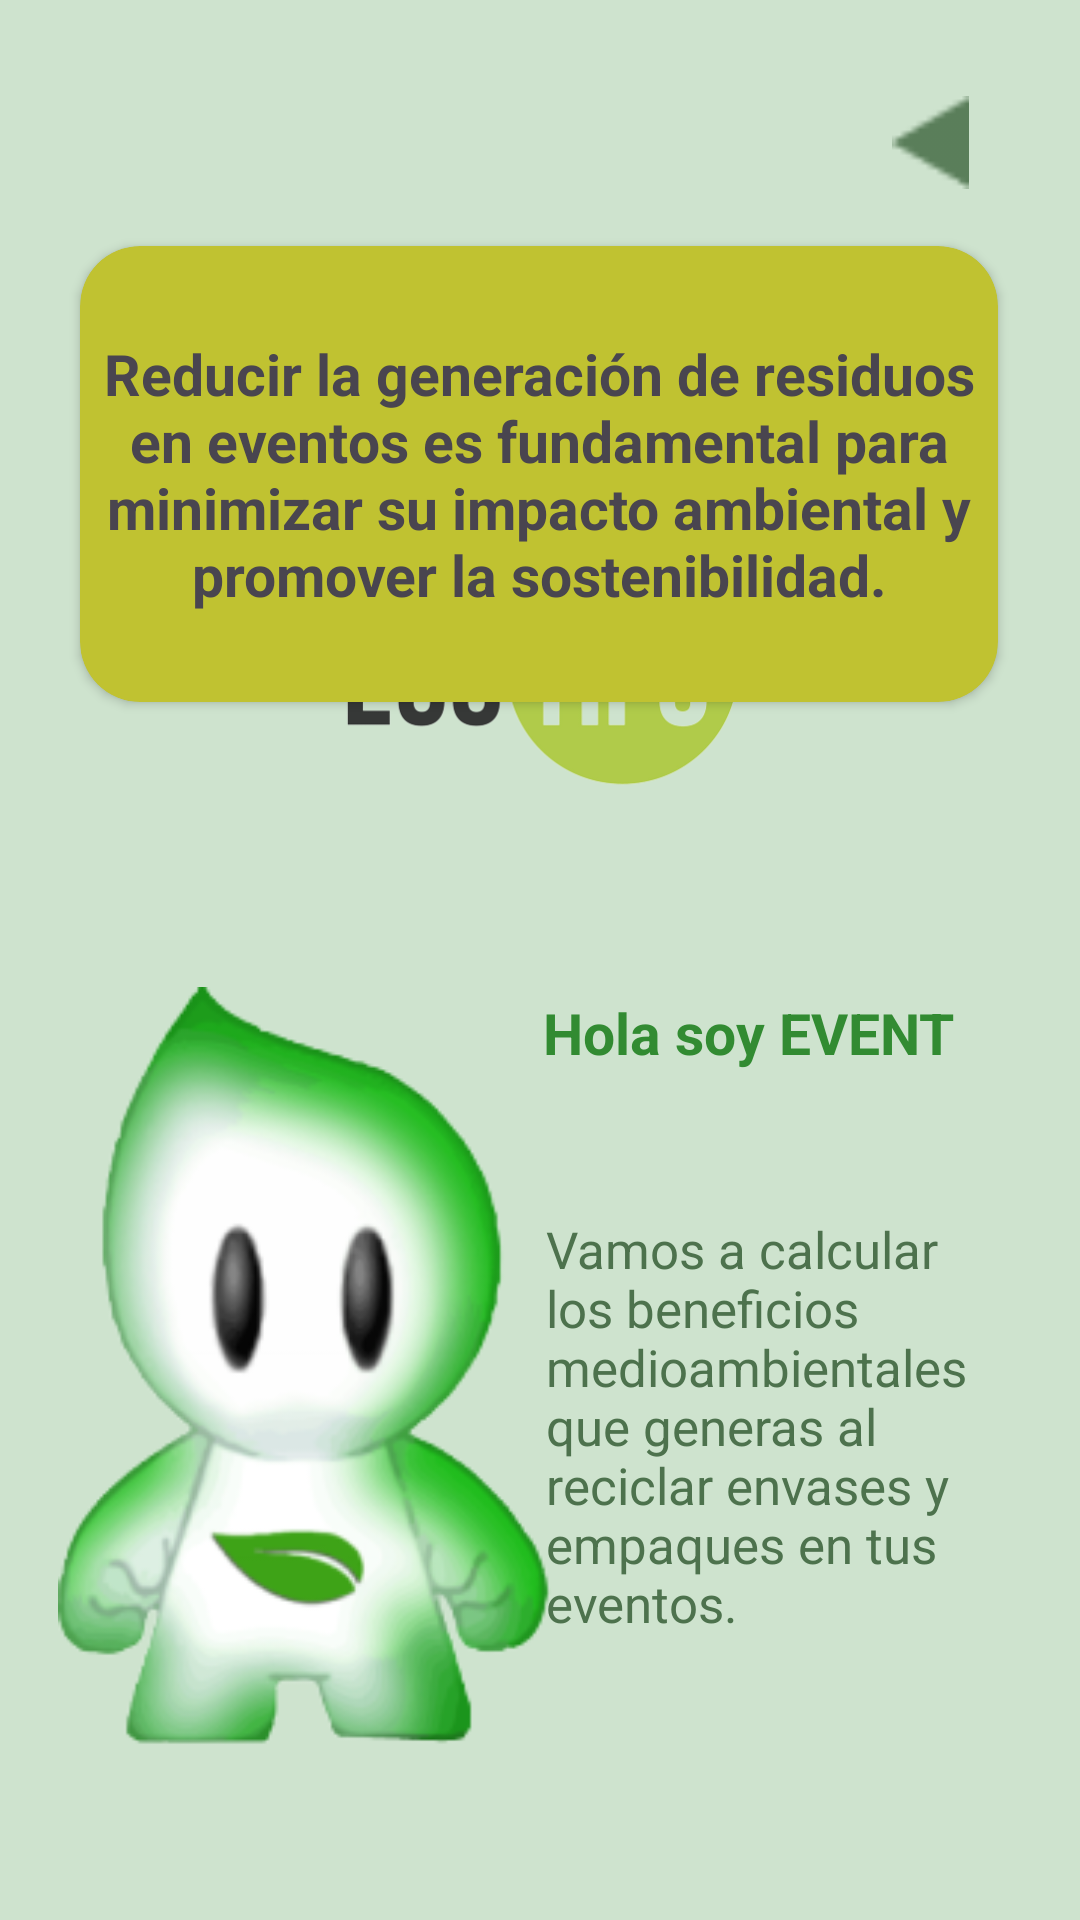

Locate icon controls on the screen. Image size 1080w x 1920h, boxes as (x1, y1, x2, y2).
arrow: (892, 96, 969, 189)
